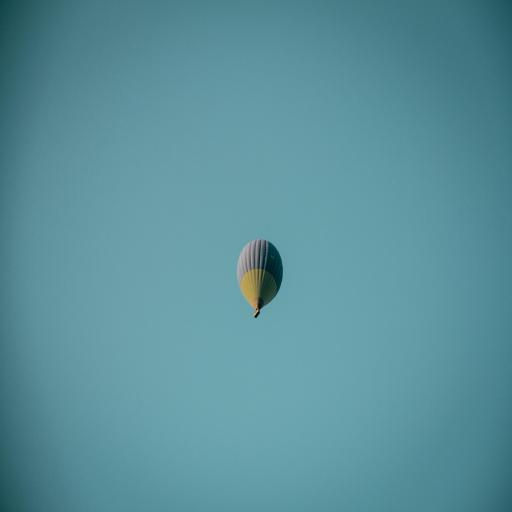hot air ballon: (234, 230, 286, 325)
